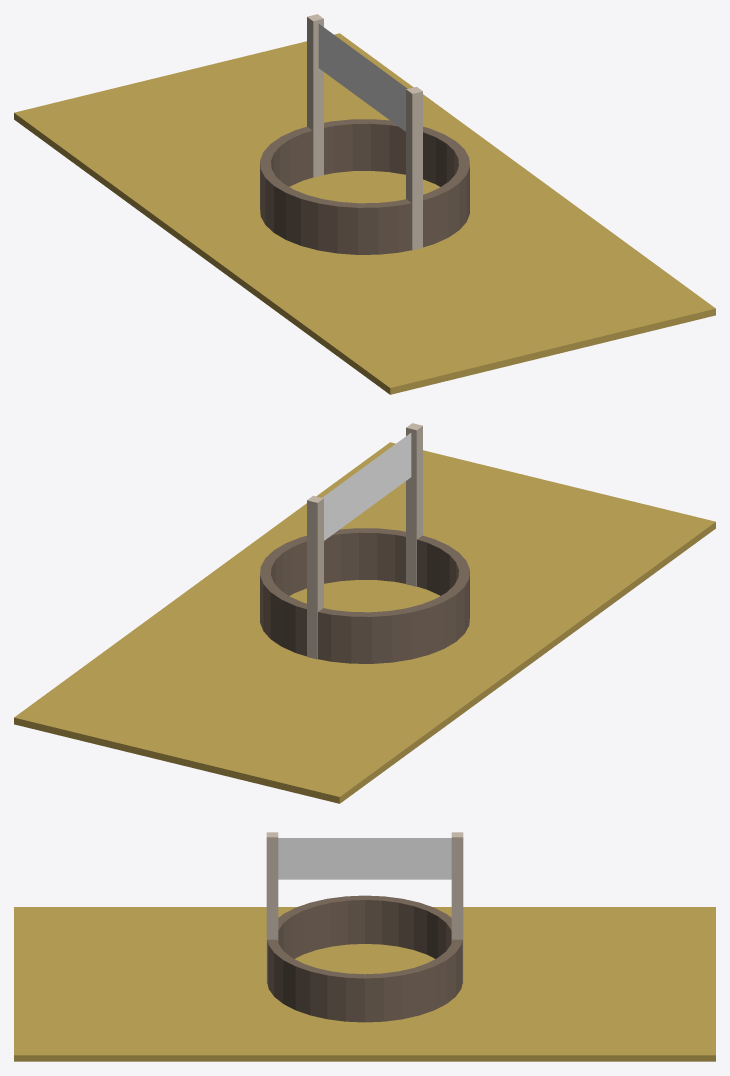
Rendered from lobby.glb.
The picture shows the model from 3 angles, top to bottom: view 1: azimuth 30°, elevation 25°; view 2: azimuth 150°, elevation 25°; view 3: azimuth 270°, elevation 25°; orthographic projection. The views are drawn at different scales.
Parts seen in each view (by area): view 1: Cube, Cylinder, Cube.001, Plane; view 2: Cube, Cylinder, Cube.001, Plane; view 3: Cube, Cylinder, Plane, Cube.001.
Boxes of the visible parts, bbox=[...] form: Cube: bbox=[14, 33, 715, 394]; Cylinder: bbox=[260, 119, 469, 254]; Cube.001: bbox=[307, 14, 422, 250]; Plane: bbox=[318, 24, 407, 131]; Cube: bbox=[14, 442, 715, 803]; Cylinder: bbox=[260, 528, 469, 663]; Cube.001: bbox=[307, 423, 422, 659]; Plane: bbox=[322, 433, 411, 540]; Cube: bbox=[14, 907, 715, 1061]; Cylinder: bbox=[267, 895, 462, 1022]; Plane: bbox=[278, 838, 451, 879]; Cube.001: bbox=[266, 832, 463, 982].
Bounding box in the file's own units: 1 × 0.4793 × 2.
